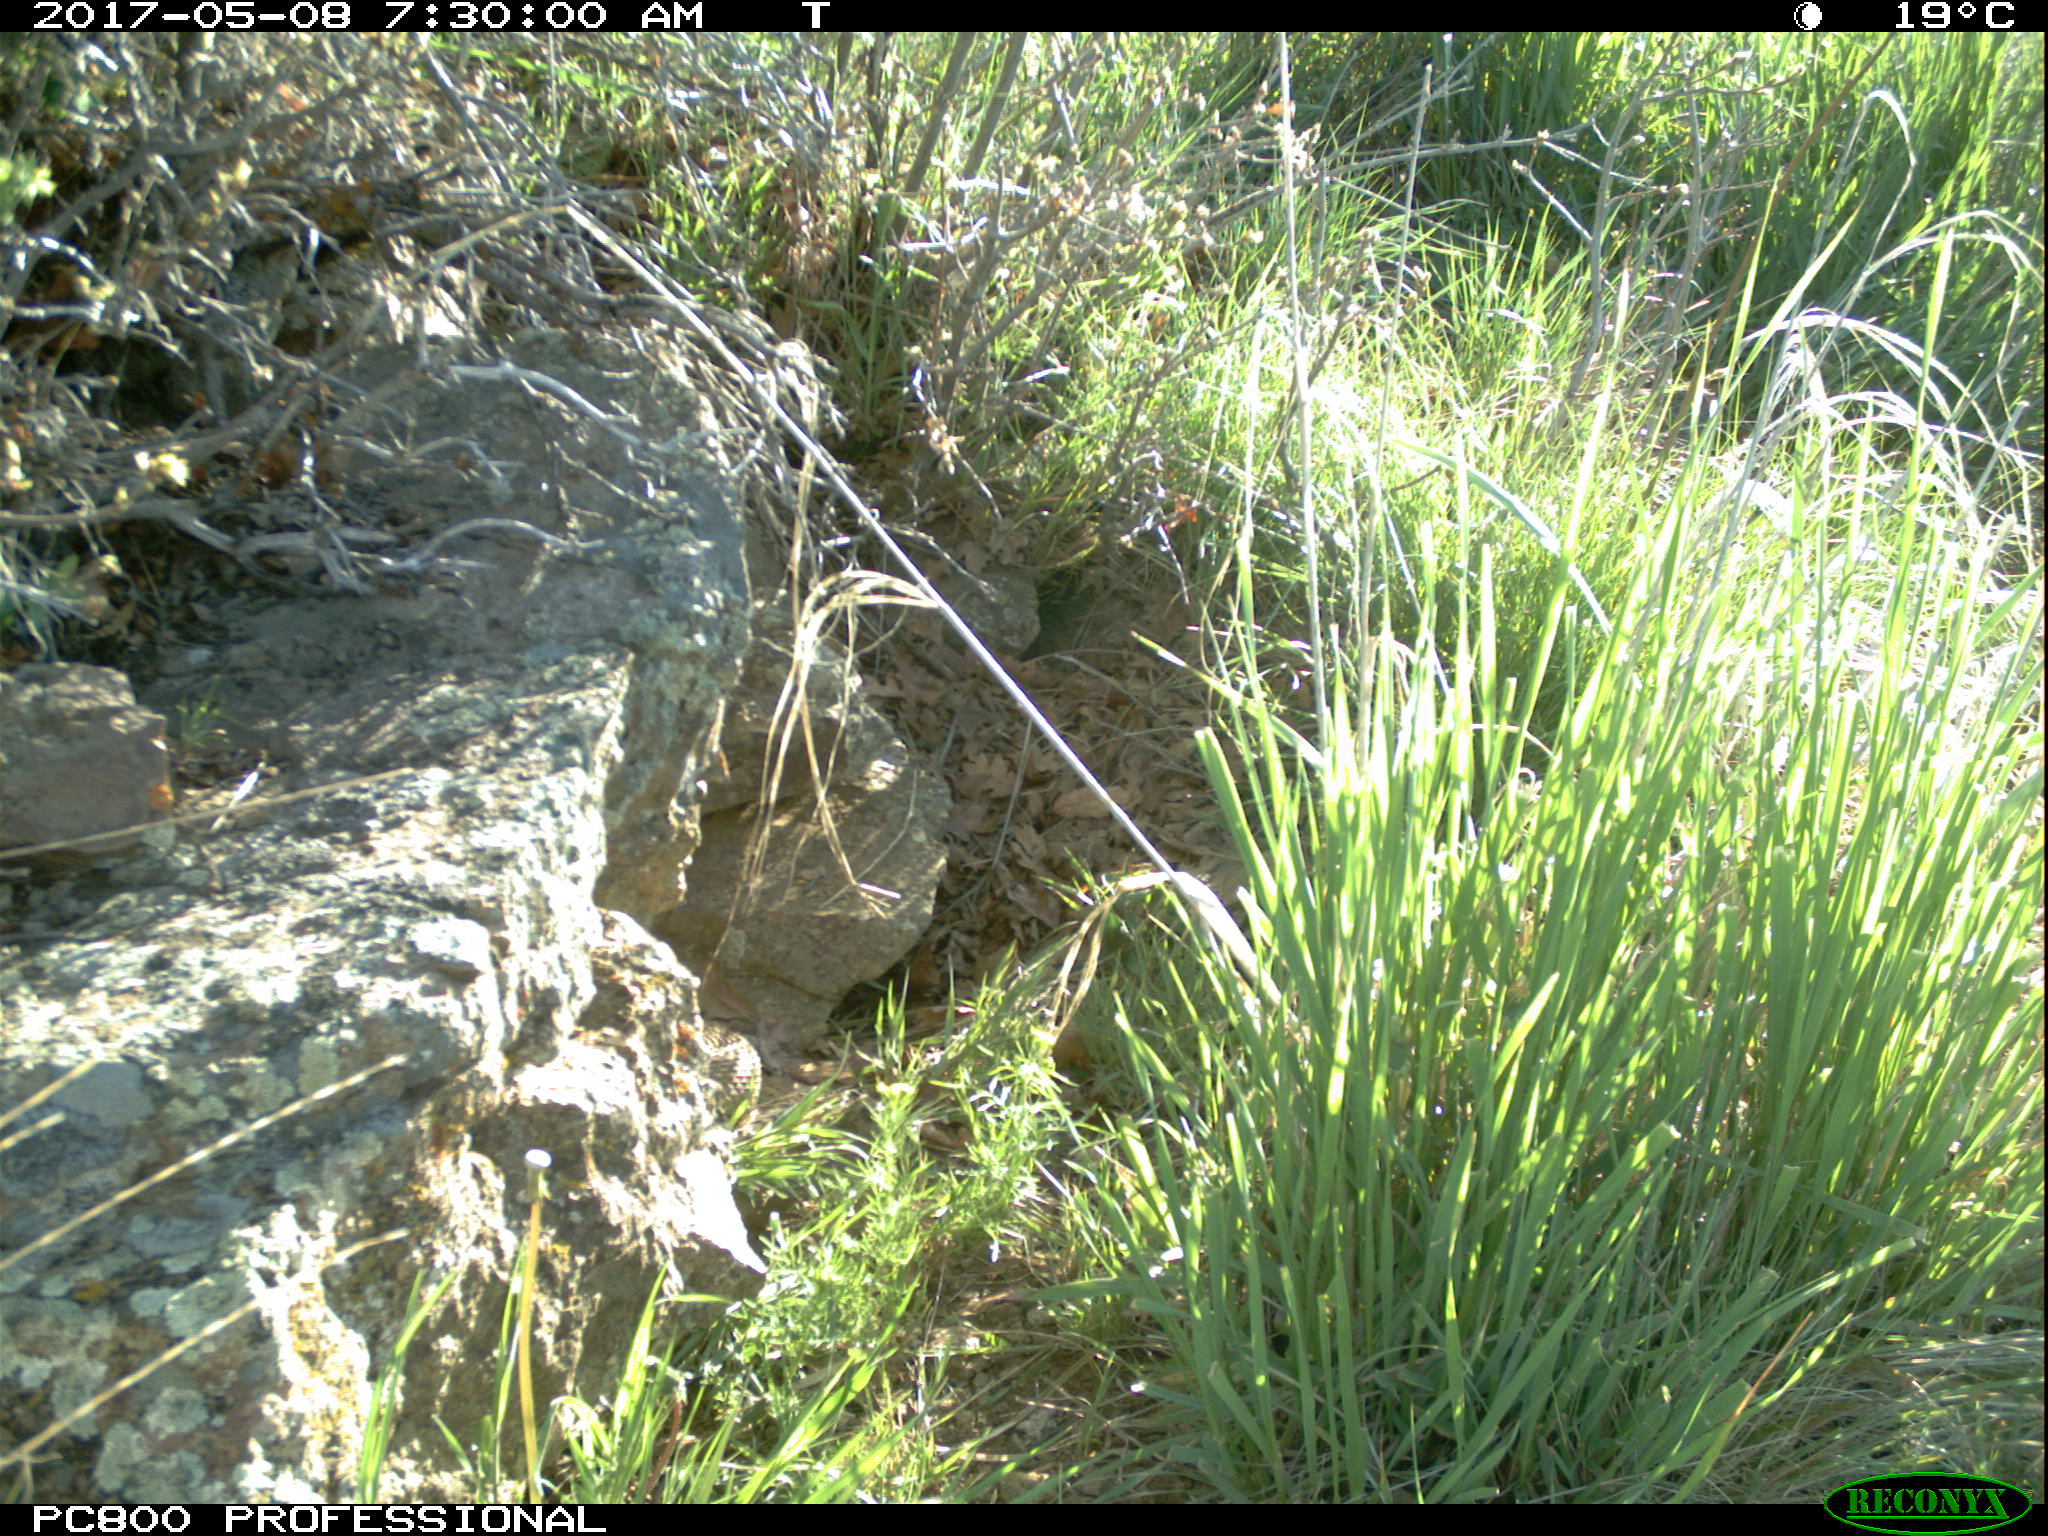snake: (690, 1013, 818, 1129)
